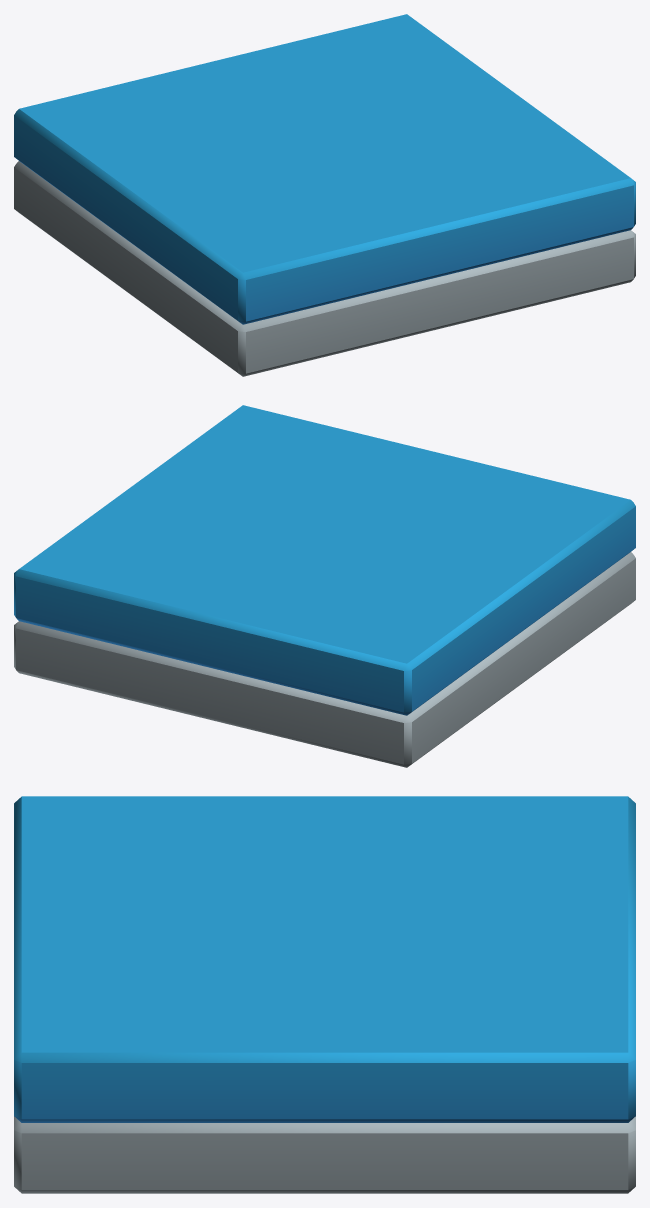
File: platform_4x4x1_blue.glb
3 renders of one model, top to bottom at view 1: azimuth 30°, elevation 25°; view 2: azimuth 150°, elevation 25°; view 3: azimuth 270°, elevation 25°, orthographic. The views are drawn at different scales.
Visible parts, largest first — view 1: platform_4x4x1_blue; view 2: platform_4x4x1_blue; view 3: platform_4x4x1_blue.
Boxes of the visible parts, left/top/right/bottom form: platform_4x4x1_blue: left=14, top=14, right=635, bottom=376; platform_4x4x1_blue: left=14, top=405, right=635, bottom=767; platform_4x4x1_blue: left=14, top=796, right=635, bottom=1193.
Bounding box in the file's own units: 4 × 1 × 4.
1 material, 1 textured.
